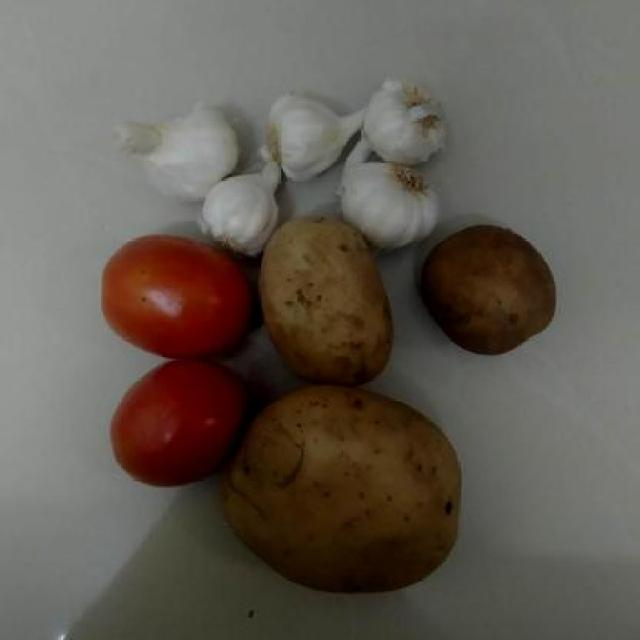Garlic: (112, 106, 246, 200), (260, 97, 360, 186), (338, 158, 440, 238), (355, 88, 463, 162), (202, 180, 278, 260)
Potato: (223, 392, 479, 597), (262, 217, 398, 389), (418, 223, 564, 359)
Tomato: (97, 234, 254, 358), (97, 357, 240, 488)
